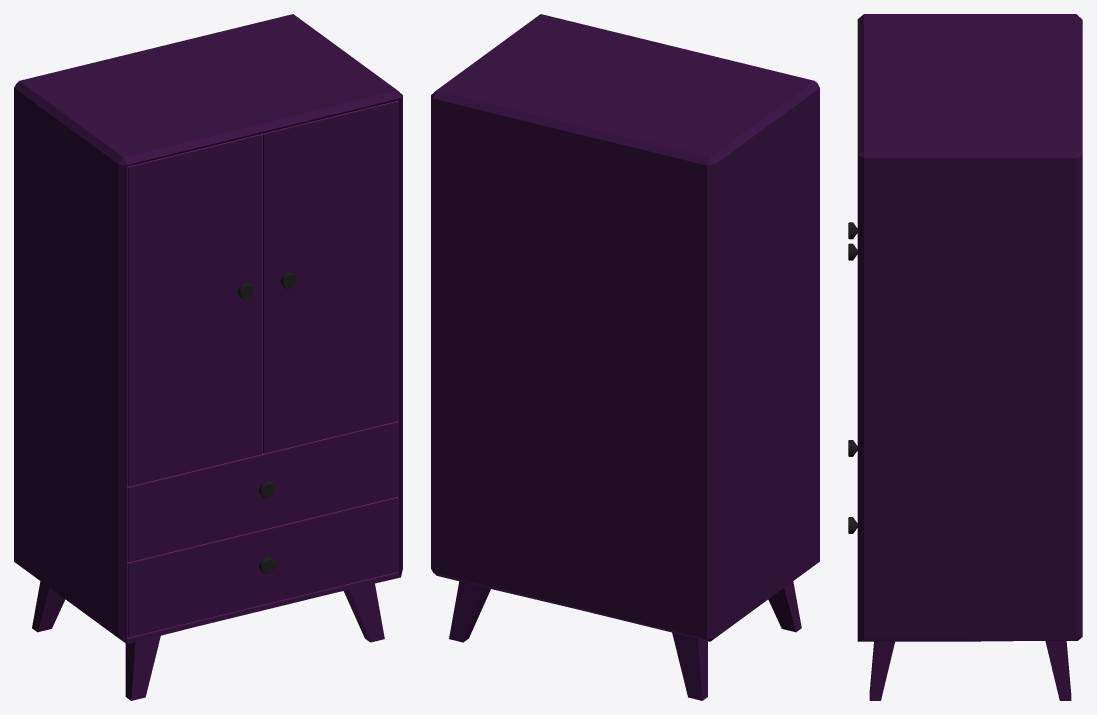
Rendered from purple Wardrobe.fbx.
3 renders of one model, left to right at view 1: azimuth 30°, elevation 25°; view 2: azimuth 150°, elevation 25°; view 3: azimuth 270°, elevation 25°, orthographic.
Visible parts, largest first — view 1: Cube; view 2: Cube; view 3: Cube.
Boxes of the visible parts, x1,y1,x2,y2 form: Cube: (14, 14, 402, 700); Cube: (431, 14, 819, 700); Cube: (848, 14, 1082, 700).
Bounding box in the file's own units: 100 × 184 × 70.52.
